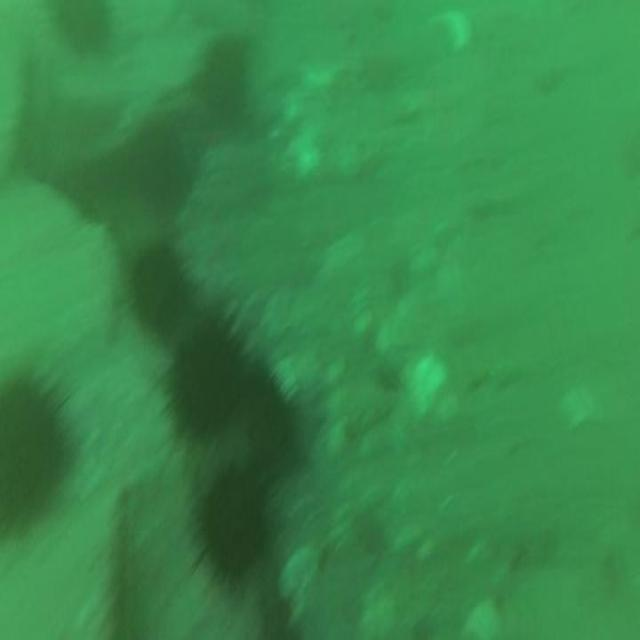echinus: (0, 385, 65, 539), (172, 318, 240, 434), (202, 474, 262, 583), (132, 118, 188, 212), (244, 368, 294, 473), (132, 250, 183, 338), (198, 44, 249, 124)
